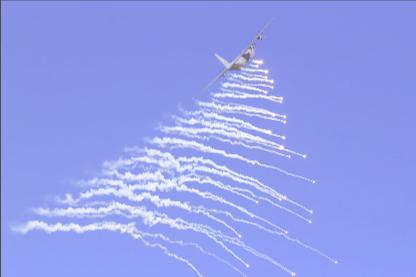Be200: (201, 16, 275, 92)
